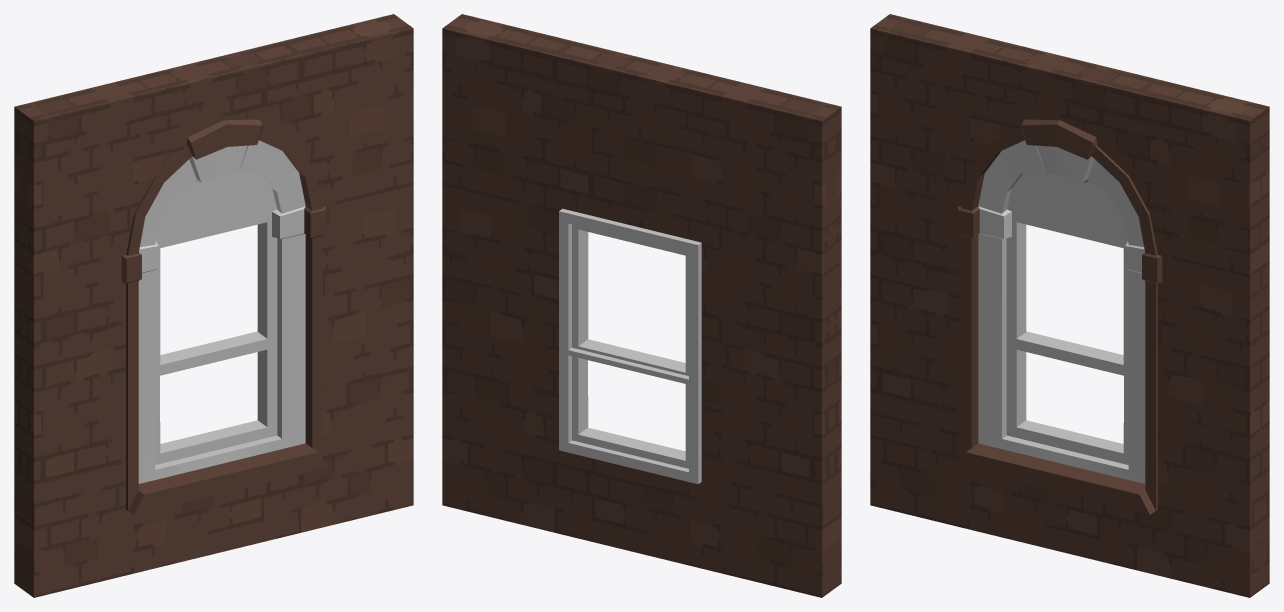
File: SM_Bld_Wall_Window_Old_01.obj
3 renders of one model, left to right at view 1: azimuth 30°, elevation 25°; view 2: azimuth 150°, elevation 25°; view 3: azimuth 330°, elevation 25°, orthographic.
Parts seen in each view (by area): view 1: SM_Bld_Wall_Window_Old_01_2, SM_Bld_Wall_Window_Old_01_0, SM_Bld_Wall_Window_Old_01_1; view 2: SM_Bld_Wall_Window_Old_01_1, SM_Bld_Wall_Window_Old_01_0, SM_Bld_Wall_Window_Old_01_2; view 3: SM_Bld_Wall_Window_Old_01_2, SM_Bld_Wall_Window_Old_01_0, SM_Bld_Wall_Window_Old_01_1.
Part boxes in pixels (x1,y1,x2,y2): SM_Bld_Wall_Window_Old_01_2: (24, 21, 413, 597); SM_Bld_Wall_Window_Old_01_0: (138, 140, 305, 483); SM_Bld_Wall_Window_Old_01_1: (14, 14, 403, 590); SM_Bld_Wall_Window_Old_01_1: (442, 21, 831, 597); SM_Bld_Wall_Window_Old_01_0: (559, 208, 701, 483); SM_Bld_Wall_Window_Old_01_2: (452, 14, 841, 590); SM_Bld_Wall_Window_Old_01_2: (870, 21, 1259, 597); SM_Bld_Wall_Window_Old_01_0: (978, 140, 1145, 483); SM_Bld_Wall_Window_Old_01_1: (880, 14, 1269, 590).
Bounding box in the file's own units: 2.5 × 3 × 0.3491.
